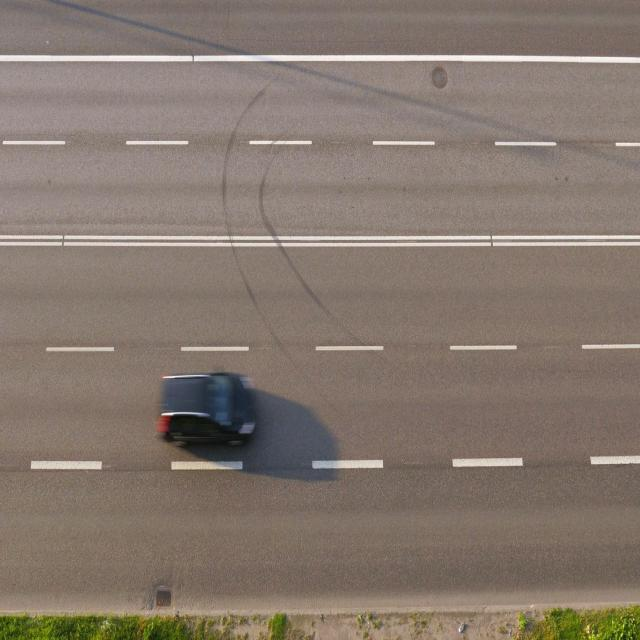Van: (156, 366, 264, 454)
